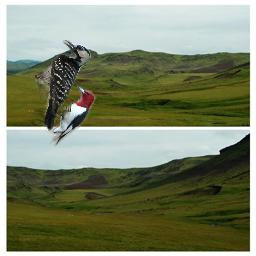Woodpecker: (35, 40, 91, 131), (48, 84, 98, 147)
